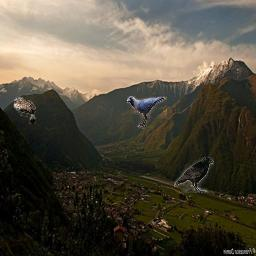Crow: (174, 157, 214, 193), (127, 96, 167, 129)
Sparrow: (13, 97, 36, 124)
